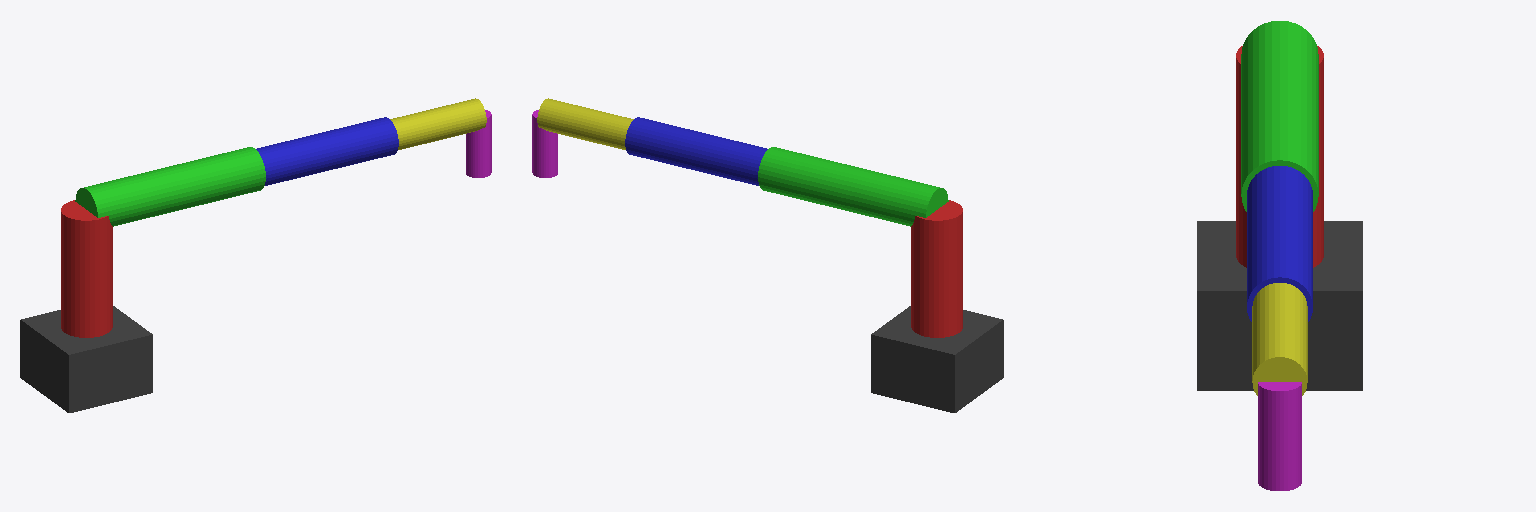
The robot description file, URDF, robot "ic_arm_simple":
<?xml version="1.0" encoding="utf-8"?>
<!-- Simplified IC ARM URDF for MuJoCo - using basic geometry instead of meshes -->
<robot name="ic_arm_simple">
  
  <!-- Base Link -->
  <link name="base_link">
    <inertial>
      <origin xyz="0 0 0.05" rpy="0 0 0" />
      <mass value="0.5" />
      <inertia ixx="0.001" ixy="0" ixz="0" iyy="0.001" iyz="0" izz="0.001" />
    </inertial>
    <visual>
      <origin xyz="0 0 0.05" rpy="0 0 0" />
      <geometry>
        <box size="0.15 0.15 0.1" />
      </geometry>
      <material name="base_material">
        <color rgba="0.3 0.3 0.3 1" />
      </material>
    </visual>
    <collision>
      <origin xyz="0 0 0.05" rpy="0 0 0" />
      <geometry>
        <box size="0.15 0.15 0.1" />
      </geometry>
    </collision>
  </link>
  
  <!-- Link 1 -->
  <link name="l1">
    <inertial>
      <origin xyz="0 0 0.1" rpy="0 0 0" />
      <mass value="0.3" />
      <inertia ixx="0.001" ixy="0" ixz="0" iyy="0.001" iyz="0" izz="0.001" />
    </inertial>
    <visual>
      <origin xyz="0 0 0.1" rpy="0 0 0" />
      <geometry>
        <cylinder radius="0.04" length="0.2" />
      </geometry>
      <material name="link1_material">
        <color rgba="0.8 0.2 0.2 1" />
      </material>
    </visual>
    <collision>
      <origin xyz="0 0 0.1" rpy="0 0 0" />
      <geometry>
        <cylinder radius="0.04" length="0.2" />
      </geometry>
    </collision>
  </link>
  
  <!-- Joint 1 (Base to Link 1) -->
  <joint name="j1" type="continuous">
    <origin xyz="0 0 0.1" rpy="0 0 0" />
    <parent link="base_link" />
    <child link="l1" />
    <axis xyz="0 0 1" />
  </joint>
  
  <!-- Link 2 -->
  <link name="l2">
    <inertial>
      <origin xyz="0.15 0 0" rpy="0 0 0" />
      <mass value="0.4" />
      <inertia ixx="0.002" ixy="0" ixz="0" iyy="0.002" iyz="0" izz="0.001" />
    </inertial>
    <visual>
      <origin xyz="0.15 0 0" rpy="0 1.57 0" />
      <geometry>
        <cylinder radius="0.035" length="0.3" />
      </geometry>
      <material name="link2_material">
        <color rgba="0.2 0.8 0.2 1" />
      </material>
    </visual>
    <collision>
      <origin xyz="0.15 0 0" rpy="0 1.57 0" />
      <geometry>
        <cylinder radius="0.035" length="0.3" />
      </geometry>
    </collision>
  </link>
  
  <!-- Joint 2 (Link 1 to Link 2) -->
  <joint name="j2" type="continuous">
    <origin xyz="0 0 0.2" rpy="0 0 0" />
    <parent link="l1" />
    <child link="l2" />
    <axis xyz="1 0 0" />
  </joint>
  
  <!-- Link 3 -->
  <link name="l3">
    <inertial>
      <origin xyz="0.12 0 0" rpy="0 0 0" />
      <mass value="0.3" />
      <inertia ixx="0.001" ixy="0" ixz="0" iyy="0.001" iyz="0" izz="0.001" />
    </inertial>
    <visual>
      <origin xyz="0.12 0 0" rpy="0 1.57 0" />
      <geometry>
        <cylinder radius="0.03" length="0.24" />
      </geometry>
      <material name="link3_material">
        <color rgba="0.2 0.2 0.8 1" />
      </material>
    </visual>
    <collision>
      <origin xyz="0.12 0 0" rpy="0 1.57 0" />
      <geometry>
        <cylinder radius="0.03" length="0.24" />
      </geometry>
    </collision>
  </link>
  
  <!-- Joint 3 (Link 2 to Link 3) -->
  <joint name="j3" type="continuous">
    <origin xyz="0.3 0 0" rpy="0 0 0" />
    <parent link="l2" />
    <child link="l3" />
    <axis xyz="1 0 0" />
  </joint>
  
  <!-- Link 4 -->
  <link name="l4">
    <inertial>
      <origin xyz="0.08 0 0" rpy="0 0 0" />
      <mass value="0.25" />
      <inertia ixx="0.0008" ixy="0" ixz="0" iyy="0.0008" iyz="0" izz="0.0008" />
    </inertial>
    <visual>
      <origin xyz="0.08 0 0" rpy="0 1.57 0" />
      <geometry>
        <cylinder radius="0.025" length="0.16" />
      </geometry>
      <material name="link4_material">
        <color rgba="0.8 0.8 0.2 1" />
      </material>
    </visual>
    <collision>
      <origin xyz="0.08 0 0" rpy="0 1.57 0" />
      <geometry>
        <cylinder radius="0.025" length="0.16" />
      </geometry>
    </collision>
  </link>
  
  <!-- Joint 4 (Link 3 to Link 4) -->
  <joint name="j4" type="revolute">
    <origin xyz="0.24 0 0" rpy="0 0 0" />
    <parent link="l3" />
    <child link="l4" />
    <axis xyz="0 1 0" />
    <limit lower="-1.6" upper="1.6" effort="10" velocity="2" />
  </joint>
  
  <!-- Link 5 (End Effector) -->
  <link name="l5">
    <inertial>
      <origin xyz="0 0 -0.05" rpy="0 0 0" />
      <mass value="0.15" />
      <inertia ixx="0.0005" ixy="0" ixz="0" iyy="0.0005" iyz="0" izz="0.0005" />
    </inertial>
    <visual>
      <origin xyz="0 0 -0.05" rpy="0 0 0" />
      <geometry>
        <cylinder radius="0.02" length="0.1" />
      </geometry>
      <material name="link5_material">
        <color rgba="0.8 0.2 0.8 1" />
      </material>
    </visual>
    <collision>
      <origin xyz="0 0 -0.05" rpy="0 0 0" />
      <geometry>
        <cylinder radius="0.02" length="0.1" />
      </geometry>
    </collision>
  </link>
  
  <!-- Joint 5 (Link 4 to Link 5) -->
  <joint name="j5" type="continuous">
    <origin xyz="0.16 0 0" rpy="0 0 0" />
    <parent link="l4" />
    <child link="l5" />
    <axis xyz="0 0 1" />
  </joint>
  
</robot>

--- Facts derived from the render (not from the file) ---
3 views of the same robot in one strip: view 1: azimuth 30°, elevation 25°; view 2: azimuth 150°, elevation 25°; view 3: azimuth 270°, elevation 25° (orthographic).
Robot: ic_arm_simple — 6 links, 5 joints (1 revolute, 4 continuous); root link base_link; default pose: every joint at zero.
Links seen in each view (by area): view 1: base_link, l2, l1, l3, l4, l5; view 2: base_link, l2, l1, l3, l4, l5; view 3: base_link, l2, l3, l4, l5, l1.
Boxes of the visible links, x1,y1,x2,y2 form: base_link: (20, 306, 152, 412); l2: (75, 147, 265, 226); l1: (61, 200, 112, 337); l3: (256, 117, 398, 185); l4: (390, 98, 486, 149); l5: (466, 110, 491, 177); base_link: (871, 306, 1003, 412); l2: (758, 147, 948, 226); l1: (911, 200, 962, 337); l3: (625, 117, 767, 185); l4: (537, 98, 633, 149); l5: (532, 110, 557, 177); base_link: (1197, 221, 1362, 390); l2: (1241, 21, 1318, 211); l3: (1247, 166, 1312, 321); l4: (1252, 283, 1307, 395); l5: (1258, 382, 1301, 490); l1: (1236, 46, 1323, 267).
Size in the robot's own frame: 0.795 by 0.15 by 0.3351 metres.
Geometry: primitives only (box / cylinder / sphere), no mesh files.